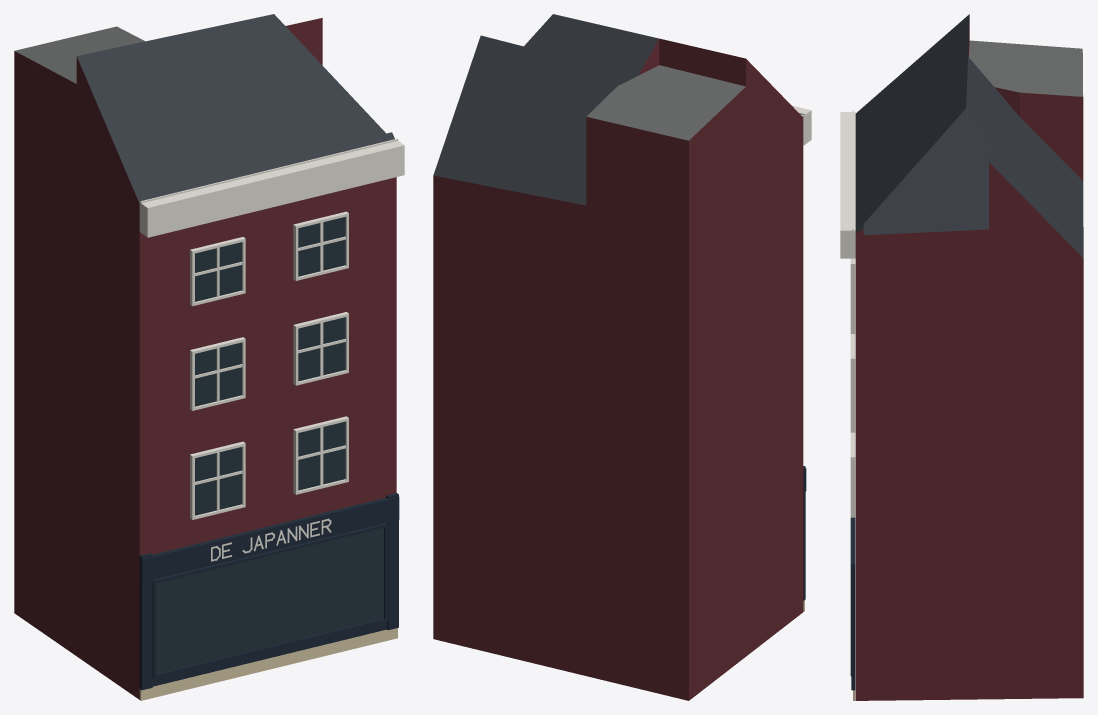
File: recipe-bilder-156732.glb
3 renders of one model, left to right at view 1: azimuth 30°, elevation 25°; view 2: azimuth 150°, elevation 25°; view 3: azimuth 270°, elevation 25°, orthographic. The views are drawn at different scales.
Visible parts, largest first — view 1: bilder-156732; view 2: bilder-156732; view 3: bilder-156732.
Part boxes in pixels (<box>): bilder-156732: <box>14,14,404,700</box>; bilder-156732: <box>433,14,811,700</box>; bilder-156732: <box>840,14,1083,700</box>.
Size of the model in its own units: 7.38 by 16.15 by 6.28.
